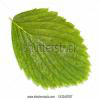Strawberry leaf: (8, 6, 92, 91)
